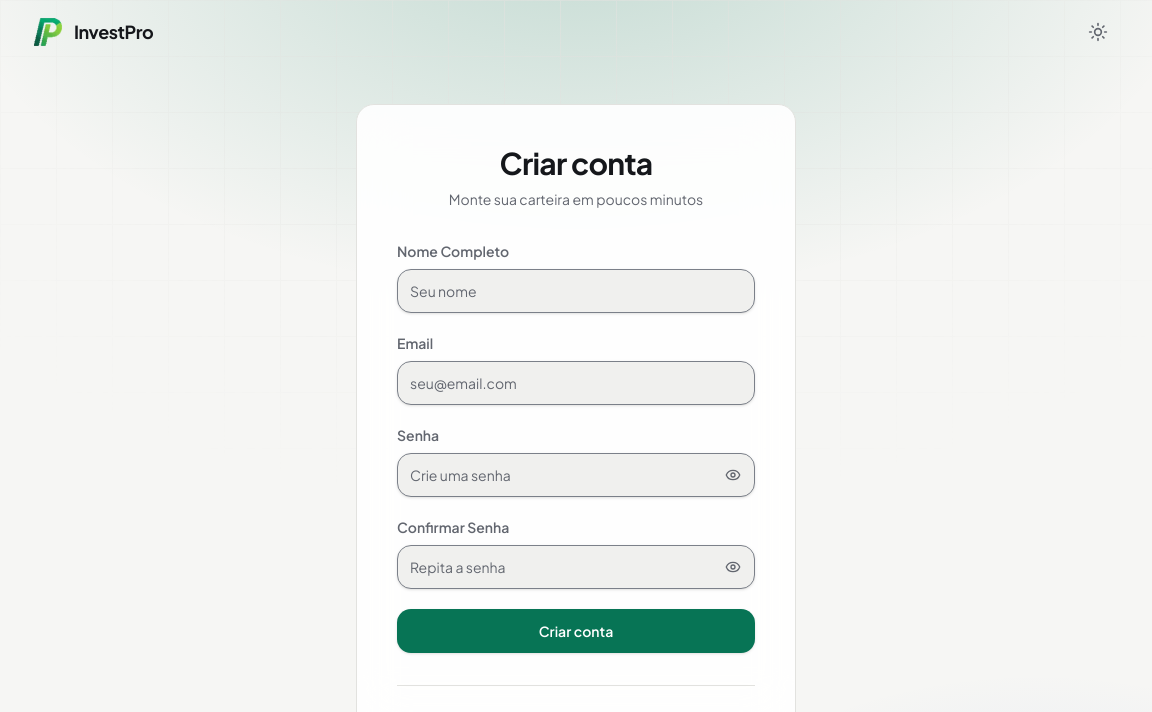
429 nas telas de autenticação (RATE_LIMIT_EXCEEDED: 429 por IP) › cadastro: mostra a mensagem amigável e nunca o texto do servidor
In the field labelled "Nome Completo": (576, 291) [397, 269, 755, 313], type "Ana Souza"
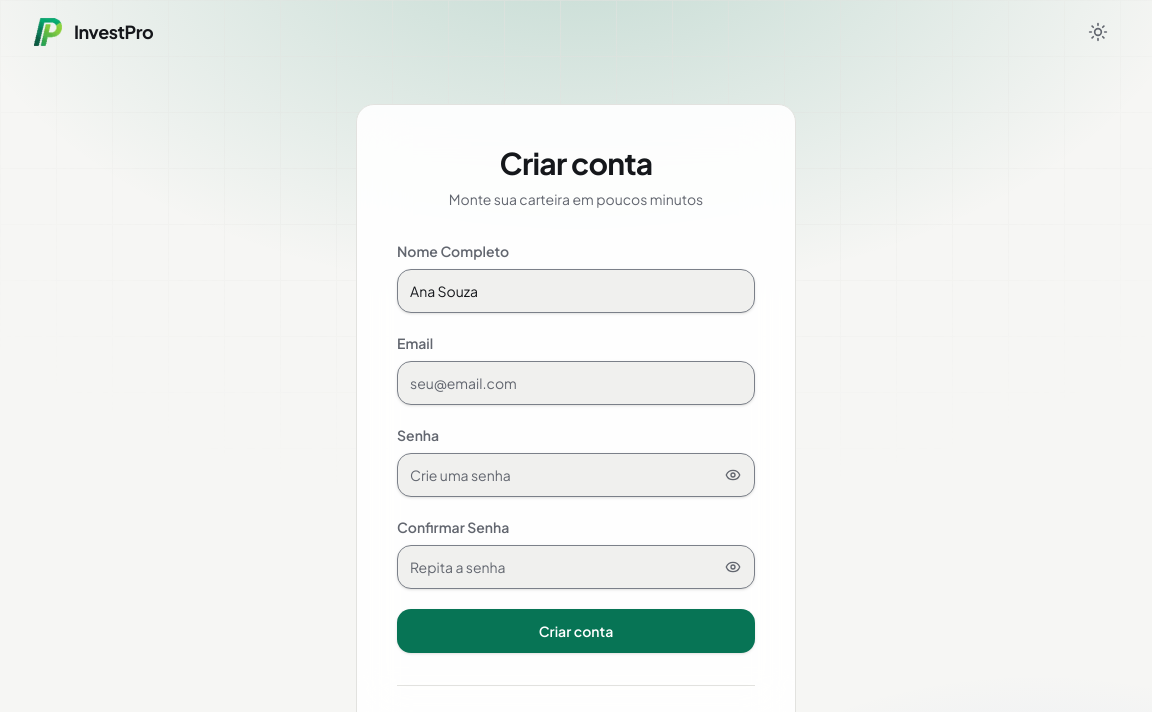
In the field labelled "Email": (576, 383) [397, 361, 755, 405], type "ana@example.com"
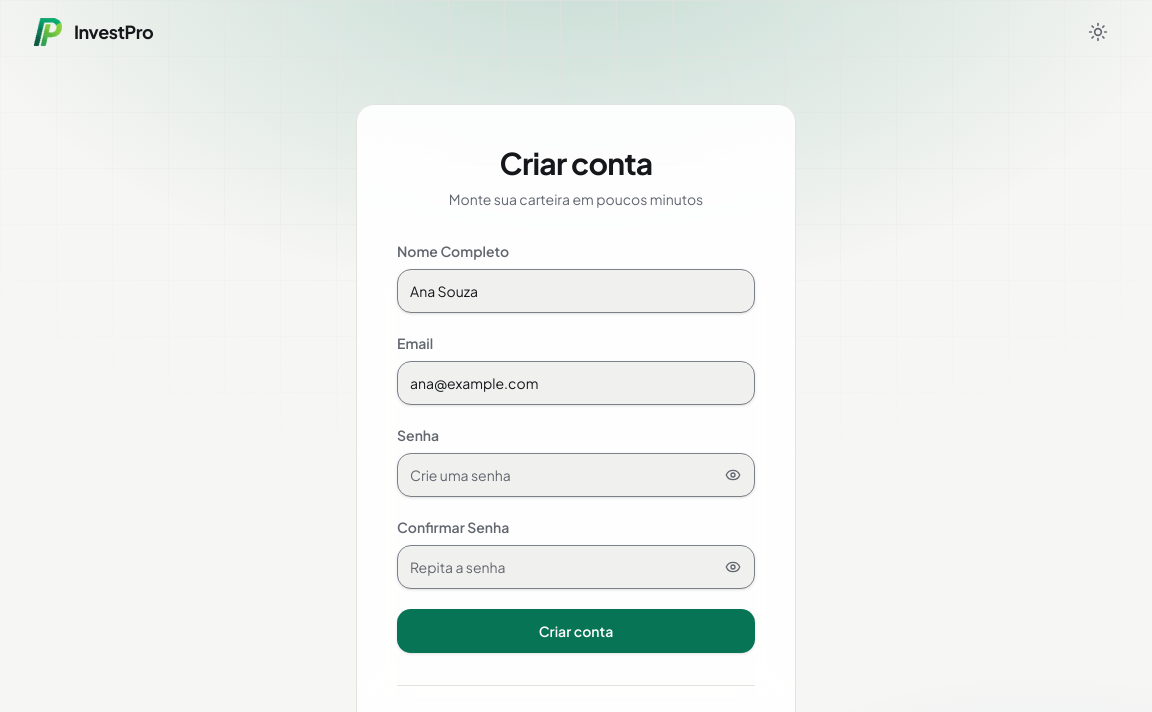
In the password field labelled "Senha": (576, 475) [397, 453, 755, 497], type "Senha#1234"
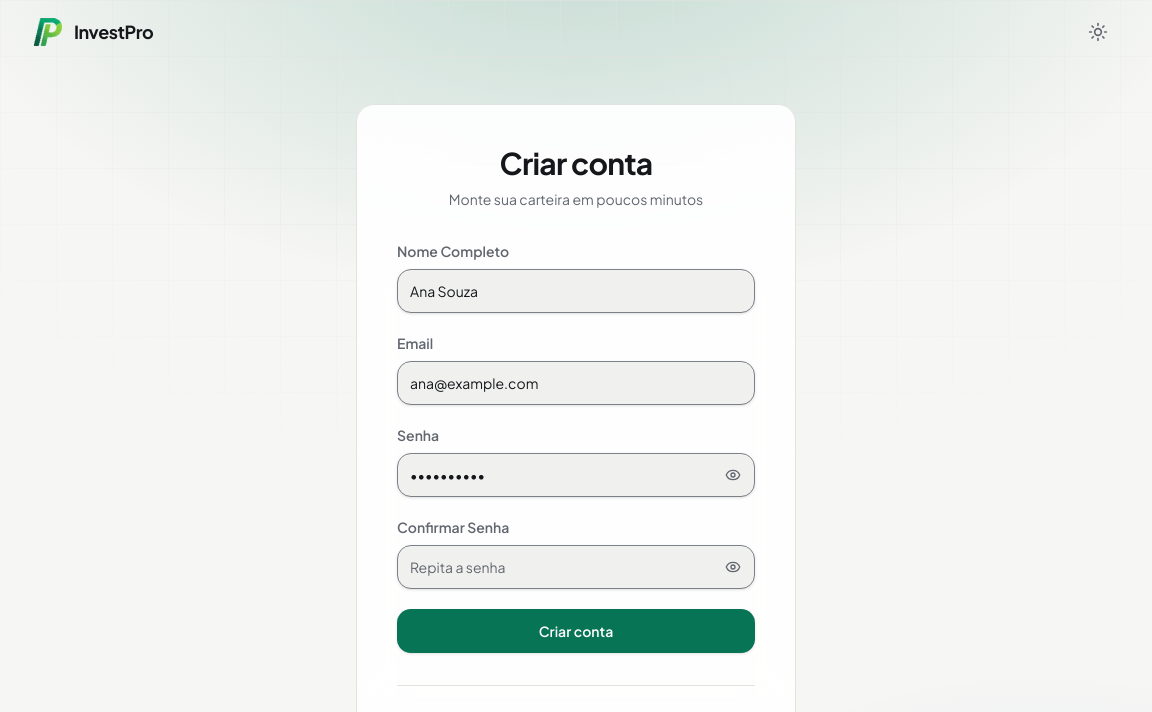
In the password field labelled "Confirmar Senha": (576, 567) [397, 545, 755, 589], type "Senha#1234"
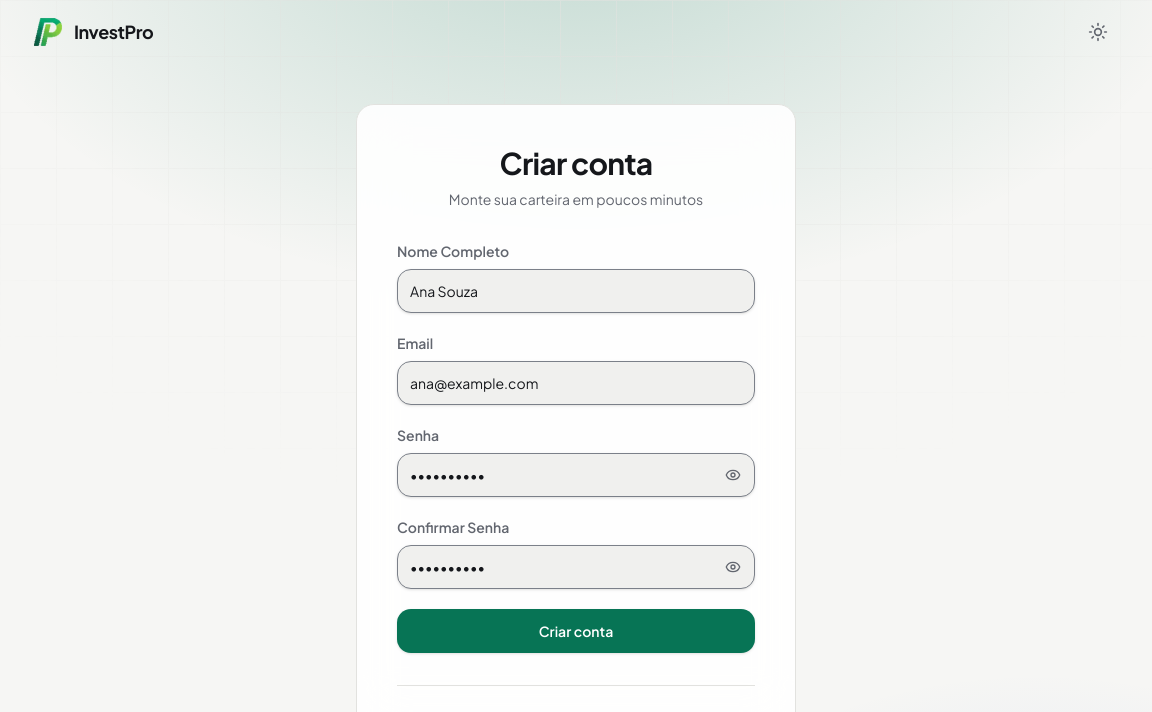
Click the button "Criar conta": (576, 631) [397, 609, 755, 653]
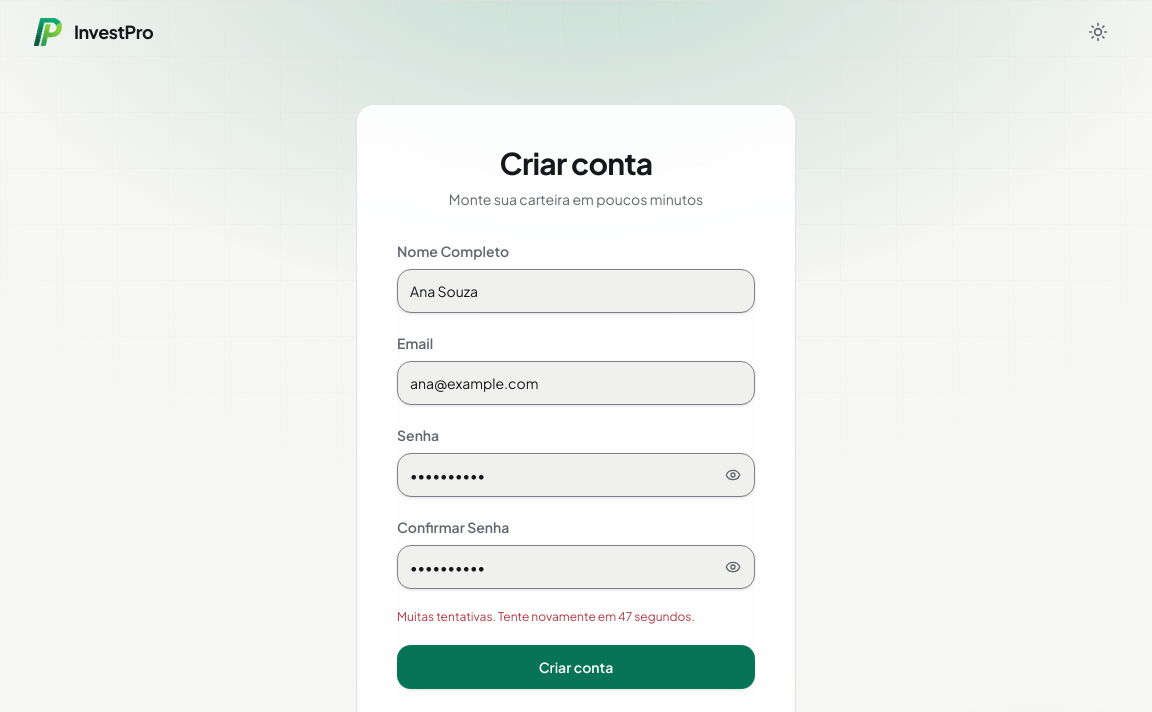
Result: the text "Muitas tentativas. Tente novamente em 47 segundos." is shown at [397, 609, 695, 624]
